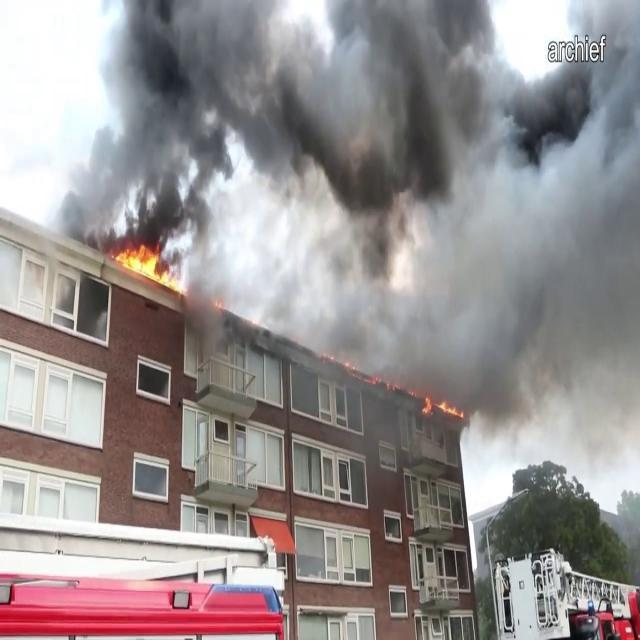Fire: (115, 240, 171, 282), (420, 388, 464, 422)
Smoke: (63, 0, 640, 347)
